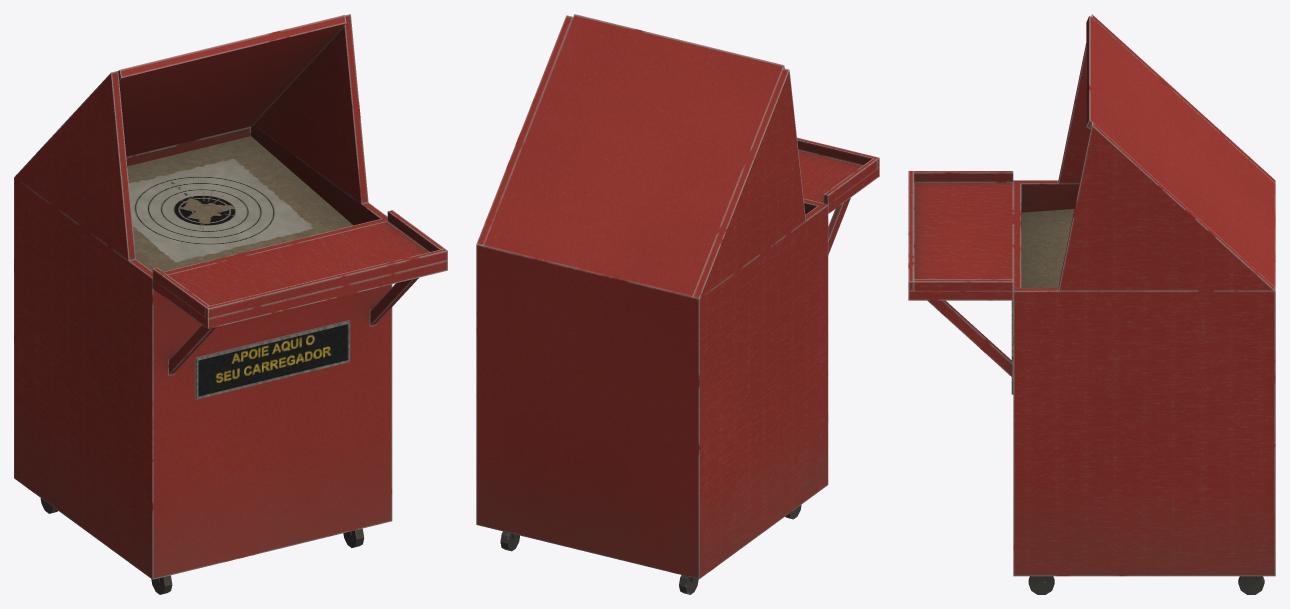
The model's file is ClearingBox.fbx.
3 views of the same model, side by side, from view 1: azimuth 30°, elevation 25°; view 2: azimuth 150°, elevation 25°; view 3: azimuth 270°, elevation 25° (orthographic). The views are drawn at different scales.
Visible parts, largest first — view 1: SM_ClearingBox; view 2: SM_ClearingBox; view 3: SM_ClearingBox.
Part boxes in pixels (x1,y1,x2,y2): SM_ClearingBox: [14, 14, 447, 594]; SM_ClearingBox: [476, 14, 879, 594]; SM_ClearingBox: [908, 14, 1275, 594].
Size of the model in its own units: 0.5 by 1.01 by 0.7.
